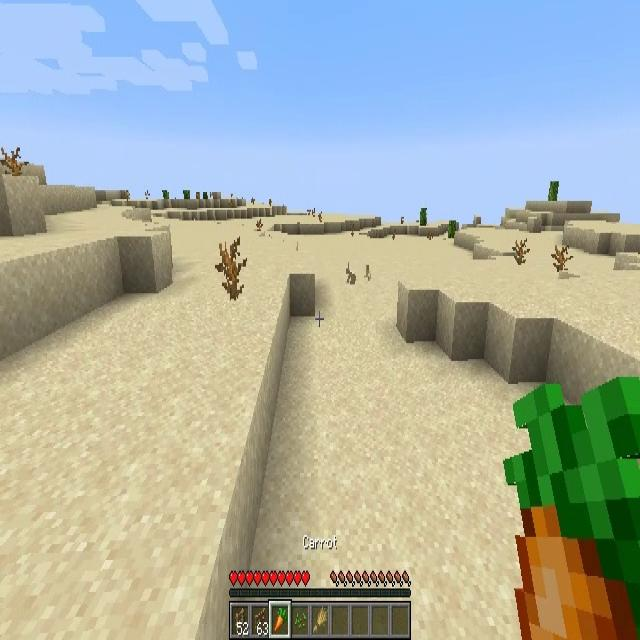rabbit: (343, 259, 356, 287), (363, 264, 371, 282)
